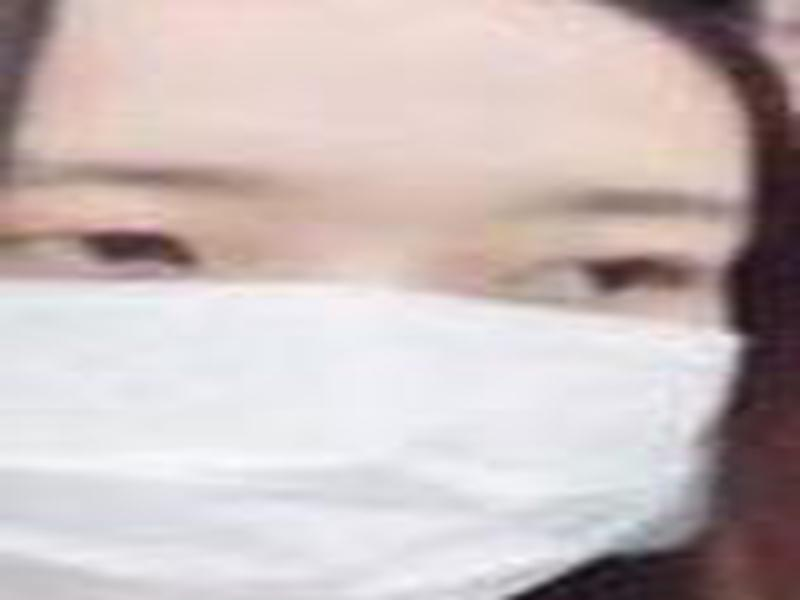with_mask: (1, 1, 777, 600)
